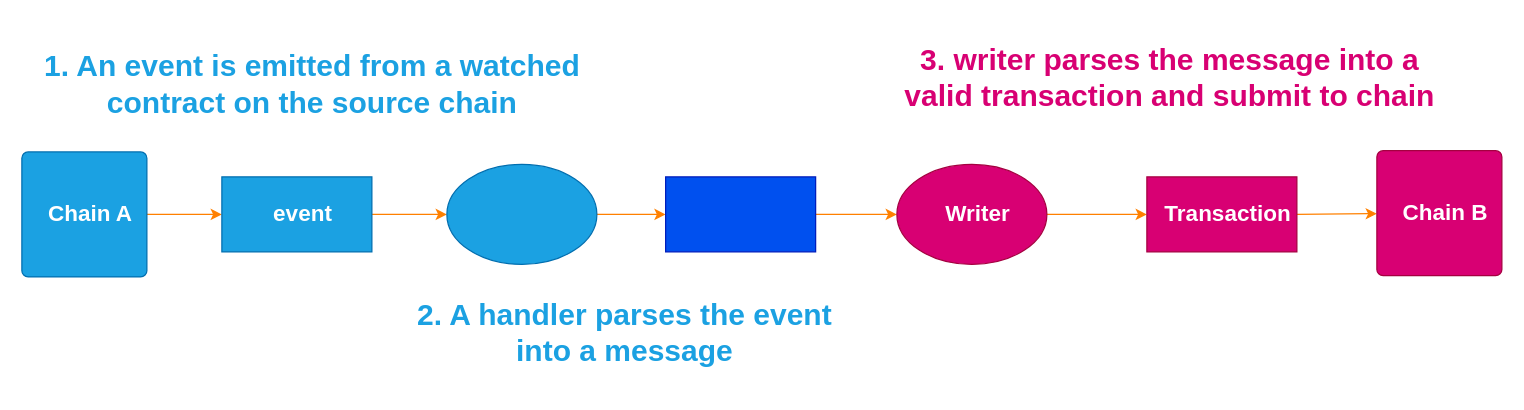
Image size: 1524x410. Some labels were removed from this diagram. The shapes that lost their labels are listed below. From the top down, each one's centre as x and y in pixels, then its label:
At pixel 521 213: "Listener".
At pixel 740 214: "Message".
